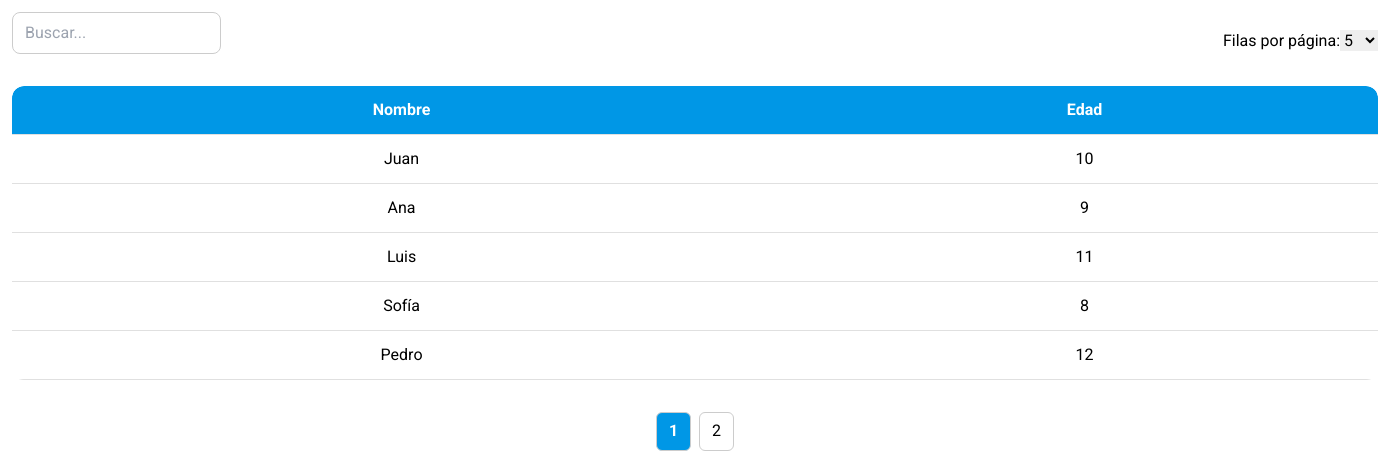
DataTable component › ordena datos al hacer clic en un encabezado
Click the column heading "Edad": [1085, 110] box x1=791 y1=86 x2=1378 y2=134
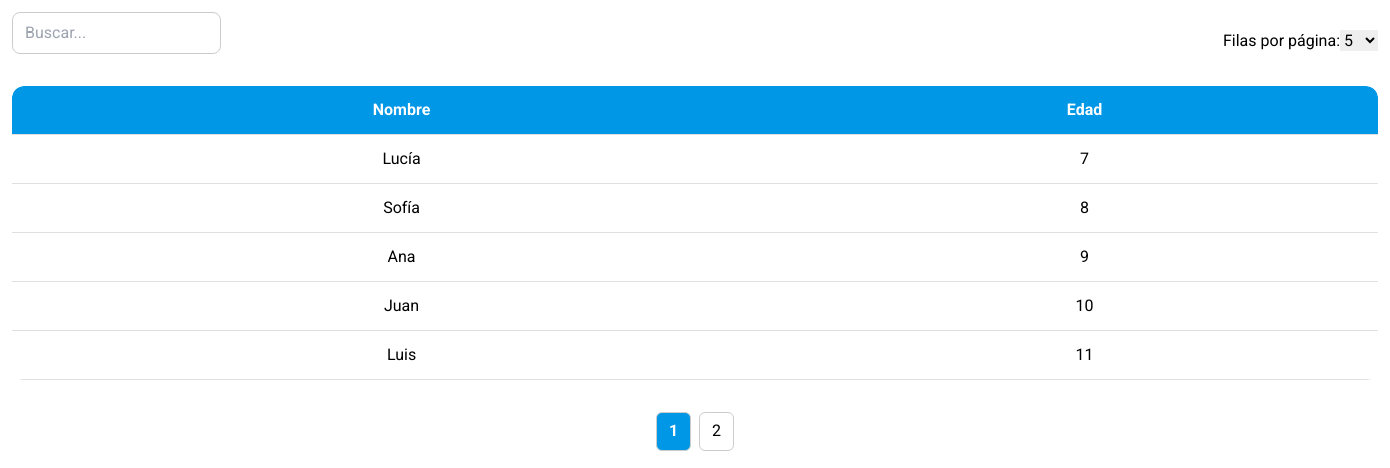
Expected: the cell "Lucía" is shown, x1=12 y1=134 x2=791 y2=184
